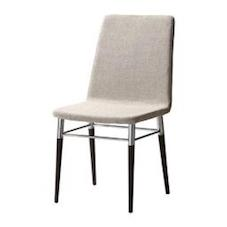chair: (15, 8, 203, 216)
